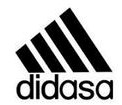adidas Fake: (12, 6, 116, 103)
